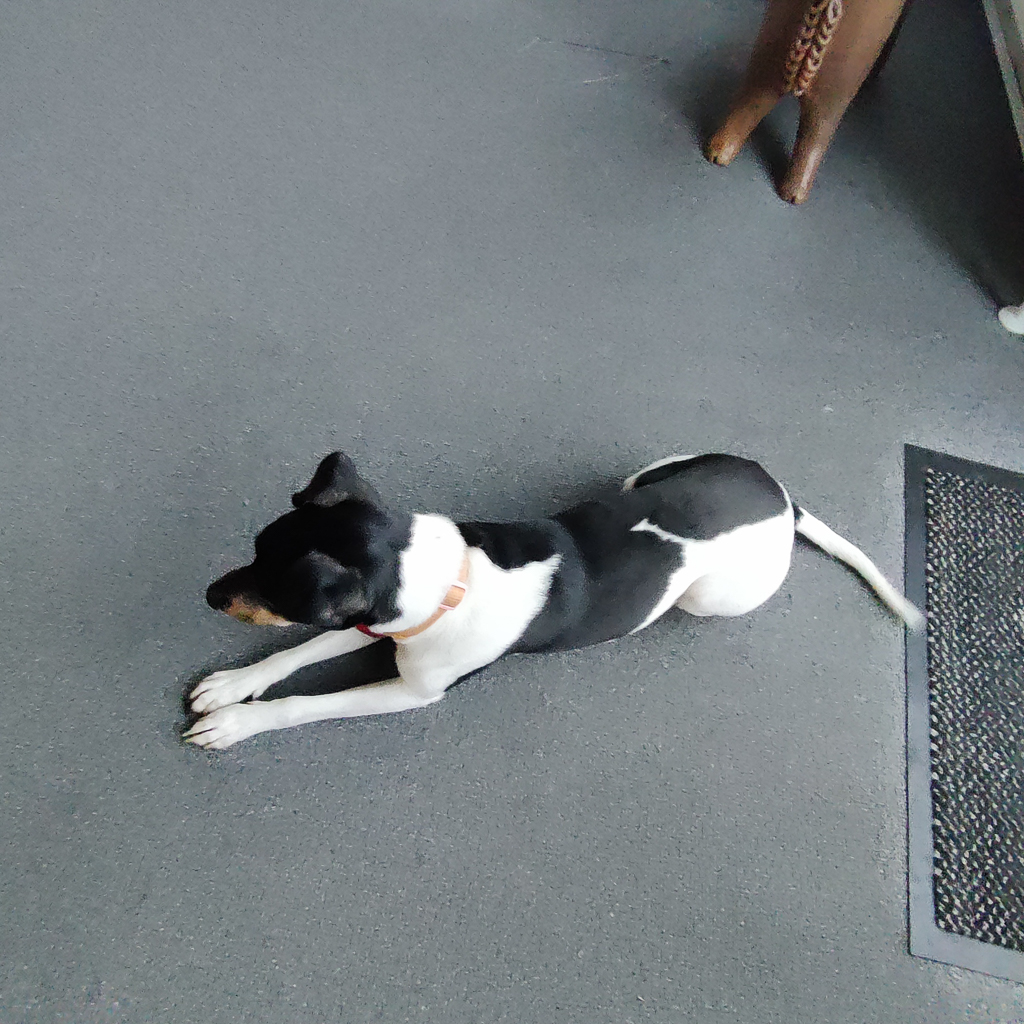Cattle: (688, 0, 929, 214)
Dog: (140, 417, 949, 784)
